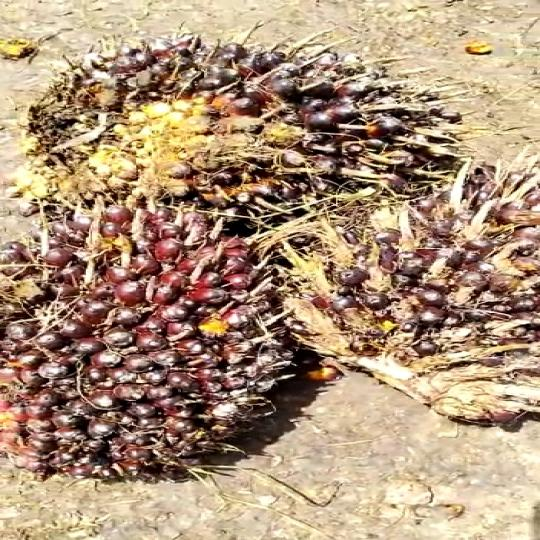kurang masak: (0, 201, 307, 471), (38, 42, 463, 210), (283, 156, 540, 429)
